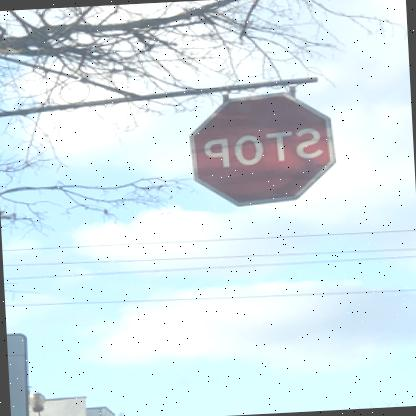stop: (188, 87, 341, 206)
